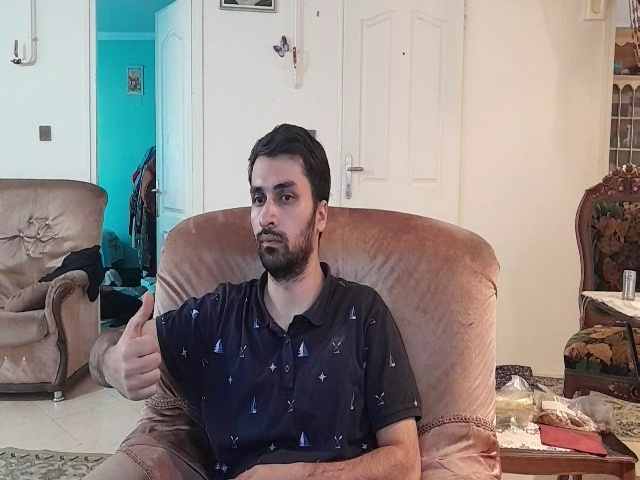ThumbsUp: (106, 292, 163, 403)
